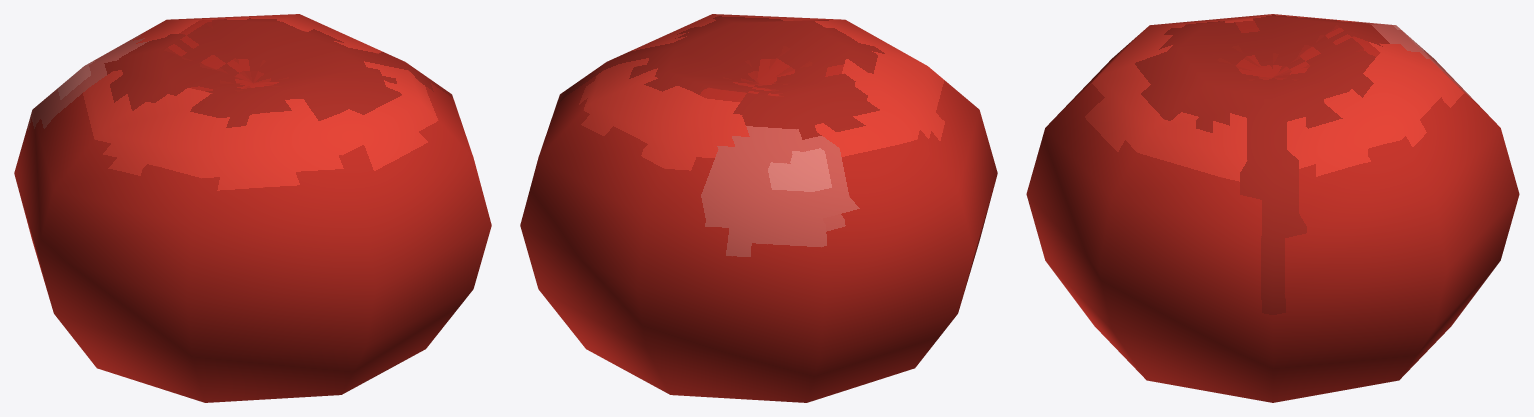
Rendered from Mesh_Tomato_Cuttable.fbx.
3 views of the same model, side by side, from view 1: azimuth 30°, elevation 25°; view 2: azimuth 150°, elevation 25°; view 3: azimuth 270°, elevation 25° (orthographic).
Parts seen in each view (by area): view 1: Tomato_Cuttable; view 2: Tomato_Cuttable; view 3: Tomato_Cuttable.
Boxes of the visible parts, x1,y1,x2,y2 form: Tomato_Cuttable: (14,14,491,402); Tomato_Cuttable: (520,14,997,402); Tomato_Cuttable: (1026,14,1519,402).
Bounding box in the file's own units: 3.77 × 2.54 × 3.7.
